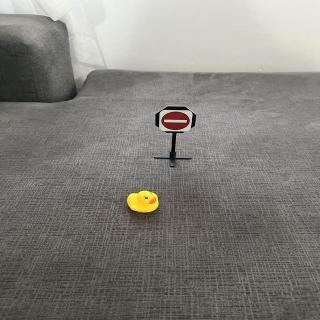duck_regular: (128, 190, 162, 216)
sign_noentry: (159, 110, 195, 134)
